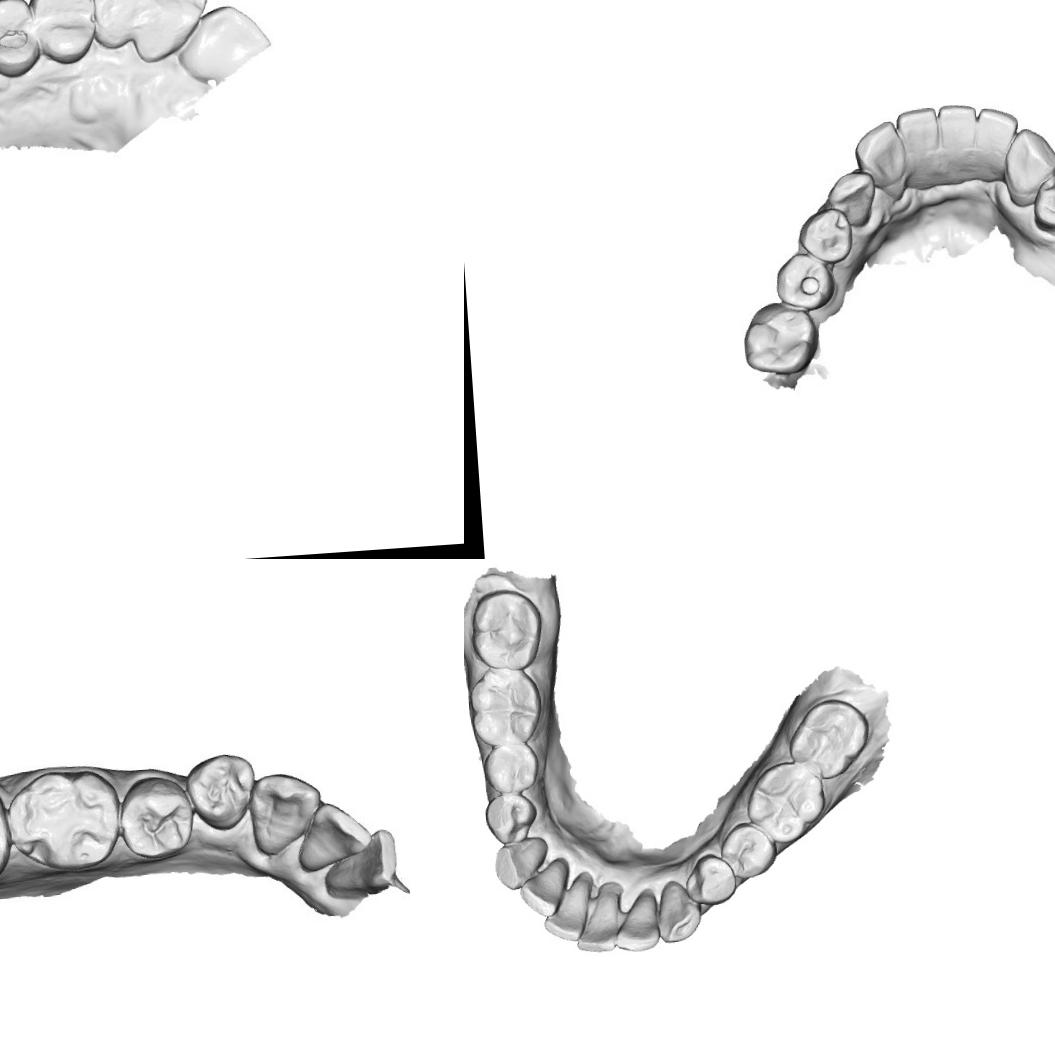canine: (246, 769, 316, 858), (999, 124, 1055, 208), (490, 833, 550, 891), (654, 876, 704, 945), (86, 0, 157, 47), (824, 168, 878, 229)
incisor: (324, 828, 406, 903), (296, 799, 366, 878), (848, 118, 910, 194), (538, 873, 596, 944), (571, 880, 621, 954), (143, 0, 209, 56), (515, 856, 572, 920), (611, 888, 666, 954), (892, 106, 944, 169), (935, 100, 982, 164), (970, 103, 1020, 161)
molar: (3, 766, 123, 878), (784, 695, 873, 783), (742, 757, 829, 846), (466, 584, 546, 674), (465, 665, 544, 746), (739, 298, 820, 376)
premolar: (119, 772, 196, 864), (186, 747, 260, 837), (771, 248, 836, 311), (32, 0, 100, 58), (716, 820, 778, 882), (799, 206, 856, 264), (681, 850, 738, 908), (479, 743, 541, 795), (481, 790, 539, 844), (0, 0, 38, 71), (1027, 170, 1055, 236)
